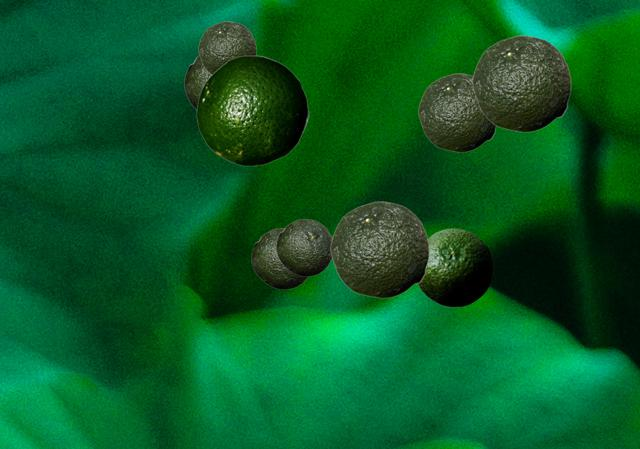calamansi: (196, 55, 308, 165), (330, 201, 428, 297), (472, 35, 570, 131), (418, 73, 496, 151), (417, 228, 492, 306), (251, 228, 309, 288), (276, 219, 331, 275), (198, 21, 255, 74), (184, 55, 209, 109)
